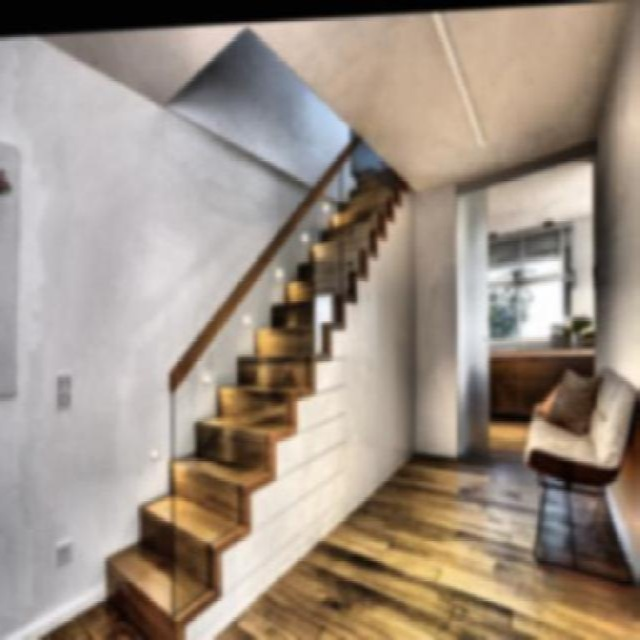stair: (106, 186, 409, 571)
